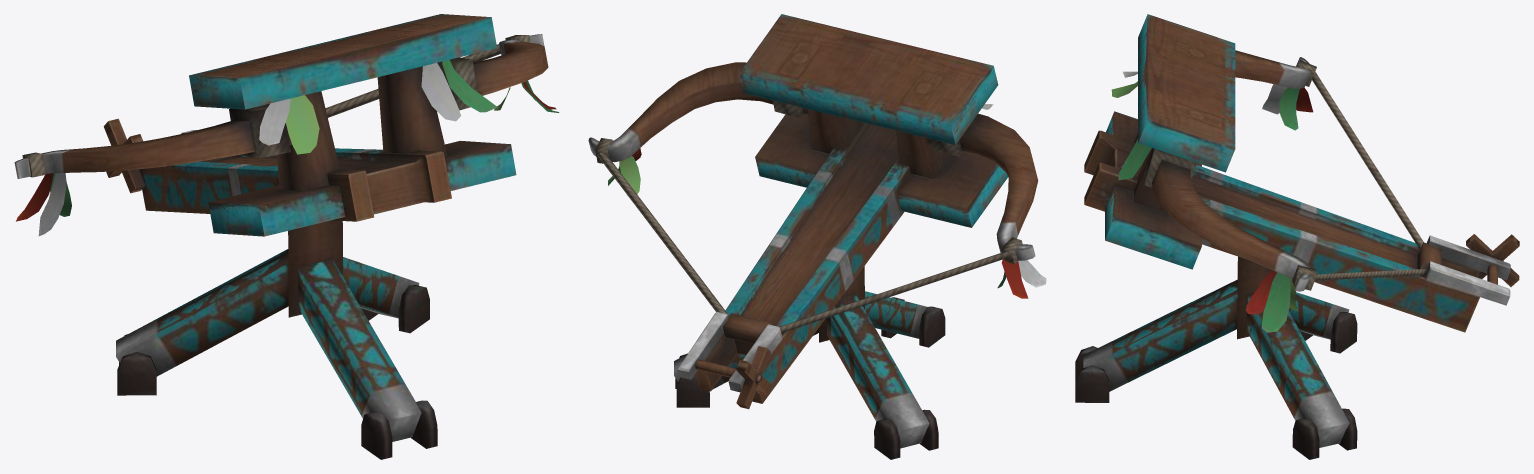
File: weapon-jadeweapons.glb
3 renders of one model, left to right at view 1: azimuth 30°, elevation 25°; view 2: azimuth 150°, elevation 25°; view 3: azimuth 270°, elevation 25°, orthographic. The views are drawn at different scales.
Bounding box in the file's own units: 2.33 × 1.6 × 1.97.
1 material, 1 textured.
